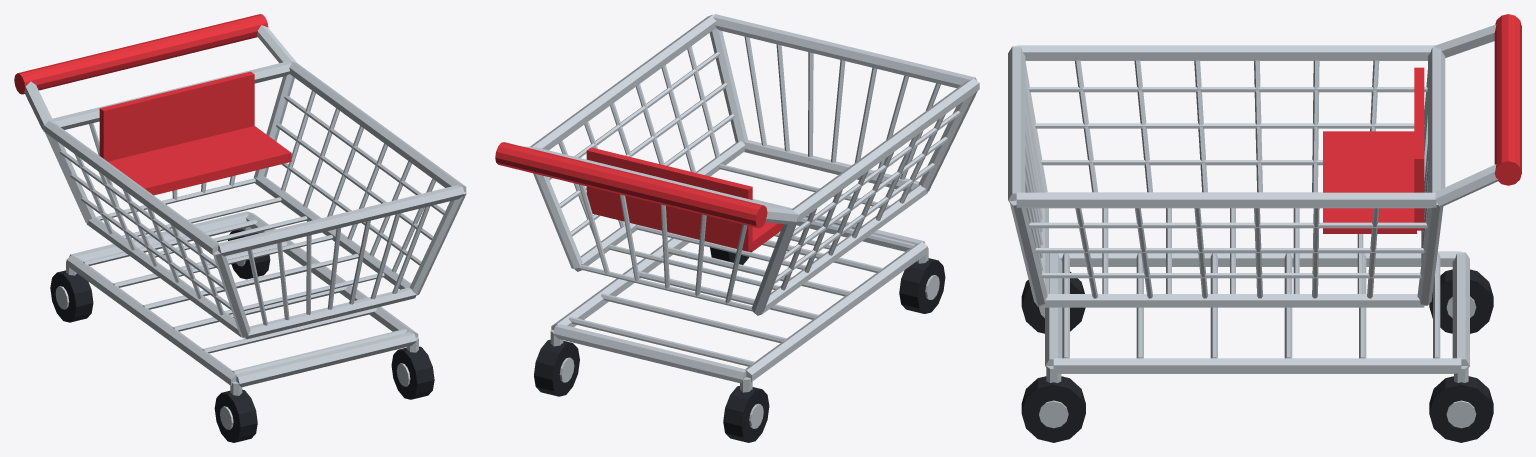
The model's file is cart-standard.glb.
The picture shows the model from 3 angles, left to right: view 1: azimuth 30°, elevation 25°; view 2: azimuth 150°, elevation 25°; view 3: azimuth 270°, elevation 25°; orthographic projection. The views are drawn at different scales.
Parts seen in each view (by area): view 1: cart-standard; view 2: cart-standard; view 3: cart-standard.
Part boxes in pixels (left/top/right/bottom): cart-standard: left=14, top=14, right=466, bottom=442; cart-standard: left=495, top=14, right=979, bottom=442; cart-standard: left=1008, top=14, right=1521, bottom=442.
Bounding box in the file's own units: 1.47 × 1.33 × 2.08.
